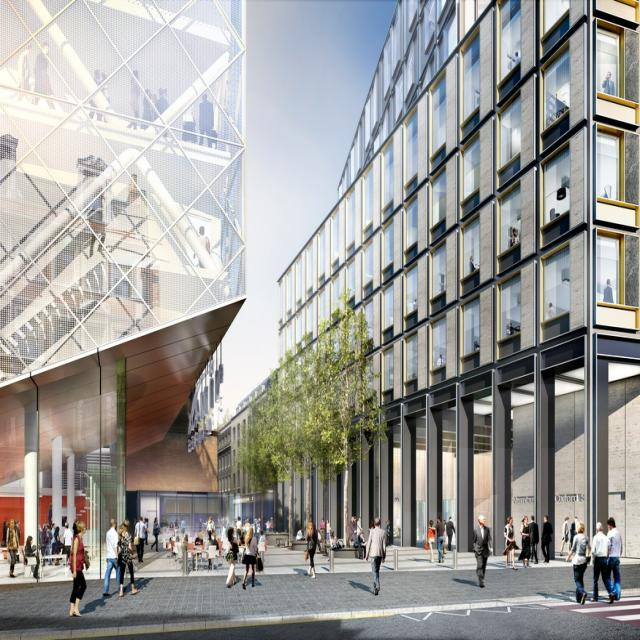body: (6, 35, 621, 386), (166, 515, 276, 539), (565, 519, 592, 605), (590, 521, 618, 603), (37, 522, 82, 568), (67, 518, 87, 617), (116, 519, 140, 597), (364, 516, 386, 596), (605, 515, 624, 601), (472, 513, 494, 587), (101, 518, 121, 598), (241, 526, 260, 590), (536, 589, 610, 604), (223, 526, 240, 588), (5, 518, 21, 578), (305, 520, 321, 579), (427, 515, 446, 563), (108, 577, 153, 597), (132, 516, 150, 563), (503, 516, 518, 570), (24, 536, 40, 580), (519, 515, 532, 569), (540, 514, 554, 563), (527, 514, 540, 564), (62, 522, 74, 566), (9, 519, 20, 564), (207, 531, 220, 569), (426, 520, 437, 564), (559, 516, 571, 556), (35, 523, 46, 566), (80, 596, 107, 613), (230, 574, 262, 588), (44, 522, 54, 566), (53, 526, 64, 566), (347, 579, 375, 594), (450, 574, 479, 588), (151, 516, 162, 552), (204, 516, 215, 550), (601, 71, 615, 97), (446, 516, 456, 551), (602, 278, 615, 304), (327, 532, 338, 562), (357, 530, 368, 560), (354, 516, 365, 544), (194, 530, 203, 564), (50, 522, 57, 563), (169, 530, 179, 556), (348, 515, 358, 541), (349, 516, 358, 544), (235, 515, 243, 544), (1, 520, 9, 548), (291, 565, 309, 577), (384, 519, 391, 547), (468, 254, 477, 275), (442, 519, 447, 554), (143, 517, 149, 546), (324, 518, 331, 542), (408, 557, 432, 564), (295, 526, 306, 541), (180, 533, 188, 553), (258, 528, 266, 548), (412, 297, 418, 323), (319, 517, 325, 541), (547, 302, 555, 320), (180, 518, 187, 536), (436, 352, 444, 367), (575, 516, 581, 534), (132, 517, 146, 524), (316, 528, 322, 541), (15, 519, 20, 527)
